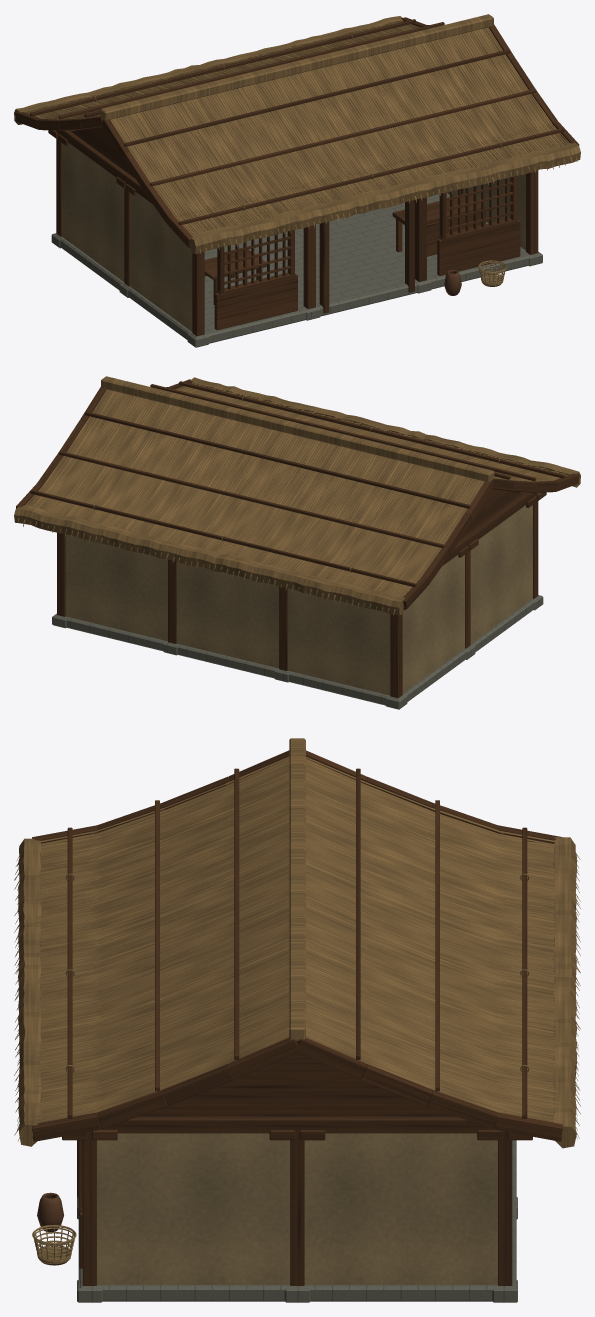
The model's file is grass-frontage.glb.
The picture shows the model from 3 angles, top to bottom: view 1: azimuth 30°, elevation 25°; view 2: azimuth 150°, elevation 25°; view 3: azimuth 270°, elevation 25°; orthographic projection. The views are drawn at different scales.
Parts seen in each view (by area): view 1: detail_grass_frontage_Grass dry straw, detail_grass_frontage_Grass hand hewn timber, detail_grass_frontage_Grey masonry, detail_grass_frontage_Grass granular earthen plaster, detail_grass_frontage_Grass split reed weave; view 2: detail_grass_frontage_Grass dry straw, detail_grass_frontage_Grass granular earthen plaster, detail_grass_frontage_Grass hand hewn timber, detail_grass_frontage_Grey masonry; view 3: detail_grass_frontage_Grass dry straw, detail_grass_frontage_Grass granular earthen plaster, detail_grass_frontage_Grass hand hewn timber, detail_grass_frontage_Grey masonry, detail_grass_frontage_Grass split reed weave, detail_grass_frontage_Grass coarse earthenware.
Part boxes in pixels (left/top/right/bottom): detail_grass_frontage_Grass dry straw: left=14, top=14, right=580, bottom=254; detail_grass_frontage_Grass hand hewn timber: left=15, top=17, right=579, bottom=336; detail_grass_frontage_Grey masonry: left=51, top=193, right=542, bottom=347; detail_grass_frontage_Grass granular earthen plaster: left=62, top=143, right=525, bottom=331; detail_grass_frontage_Grass split reed weave: left=93, top=33, right=506, bottom=286; detail_grass_frontage_Grass dry straw: left=14, top=376, right=580, bottom=615; detail_grass_frontage_Grass granular earthen plaster: left=65, top=505, right=532, bottom=695; detail_grass_frontage_Grass hand hewn timber: left=16, top=379, right=579, bottom=698; detail_grass_frontage_Grey masonry: left=52, top=595, right=543, bottom=709; detail_grass_frontage_Grass dry straw: left=14, top=738, right=580, bottom=1148; detail_grass_frontage_Grass granular earthen plaster: left=97, top=1133, right=497, bottom=1284; detail_grass_frontage_Grass hand hewn timber: left=32, top=750, right=563, bottom=1285; detail_grass_frontage_Grey masonry: left=77, top=1140, right=517, bottom=1302; detail_grass_frontage_Grass split reed weave: left=32, top=873, right=529, bottom=1265; detail_grass_frontage_Grass coarse earthenware: left=37, top=1192, right=63, bottom=1232.
Bounding box in the file's own units: 9.13 × 4.25 × 7.51.
6 materials, 6 textured.
